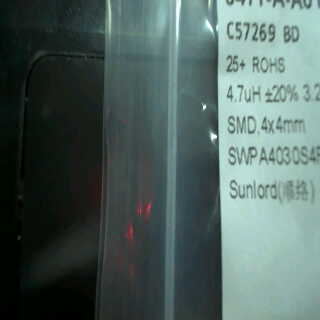4.7uH: (225, 81, 267, 105)
